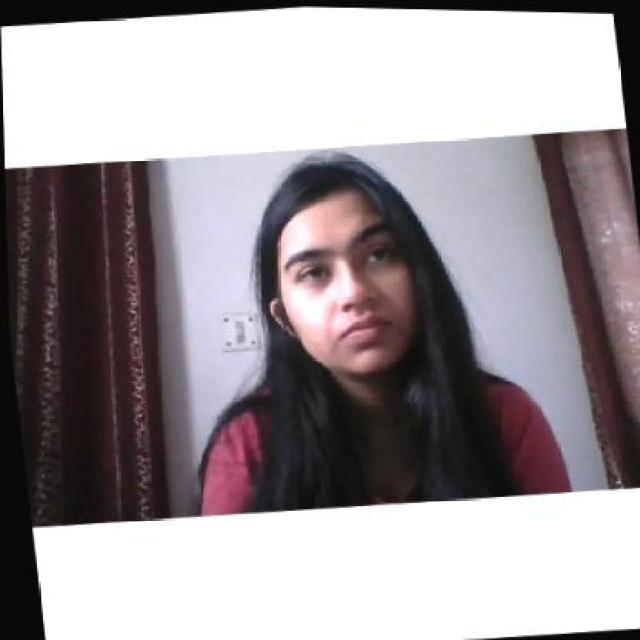attentif: (249, 149, 423, 383)
